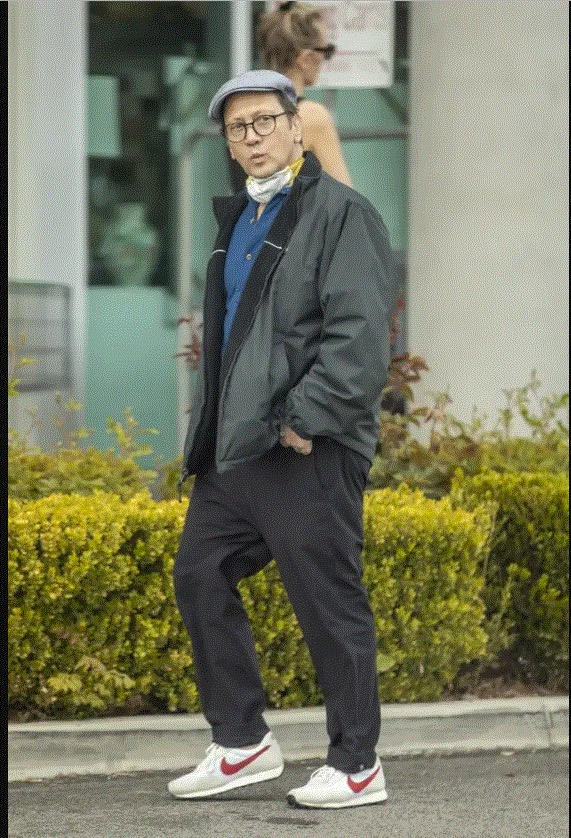mask_weared_incorrect: (225, 108, 299, 188)
